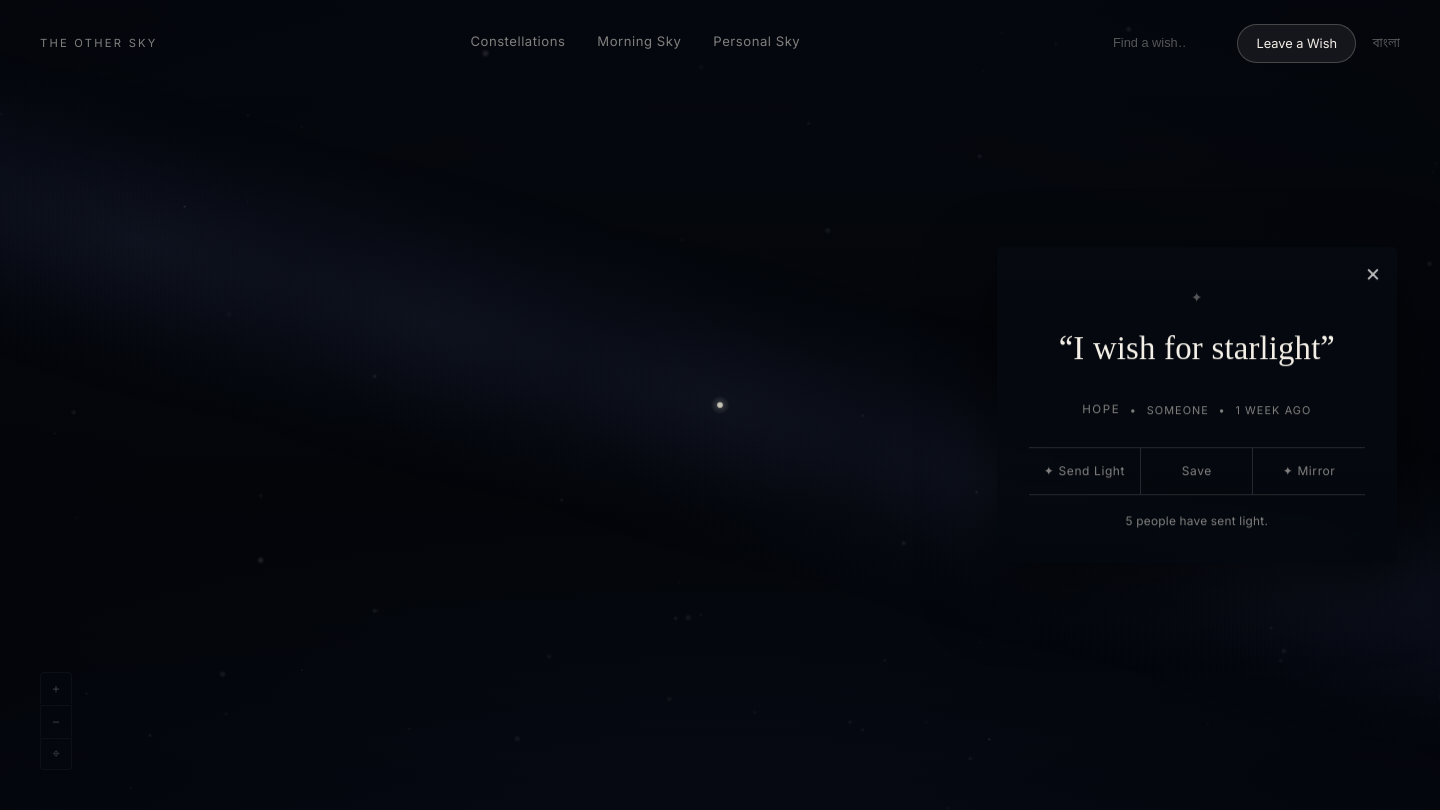
closing a deep-linked wish card closes the card without re-opening
Check: the text "“I wish for starlight”" is shown, box [1058,324,1335,376]
Click the button named "Back to the sky" at {"x": 1373, "y": 274}, box [1362,258,1384,289]
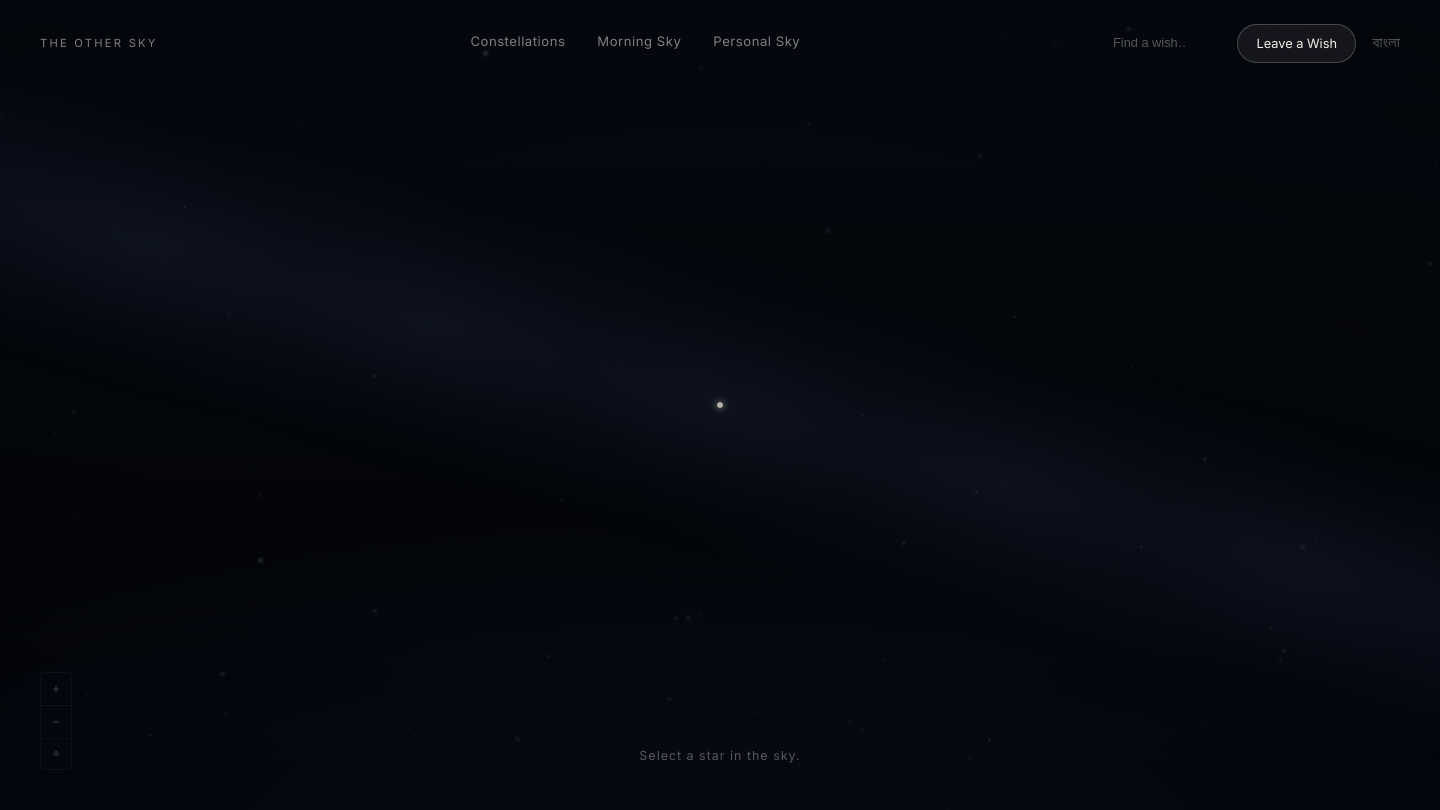
Check: the text "Select a star in the sky." is shown, box [639,748,801,763]
Check: the text "“I wish for starlight”" is gone
